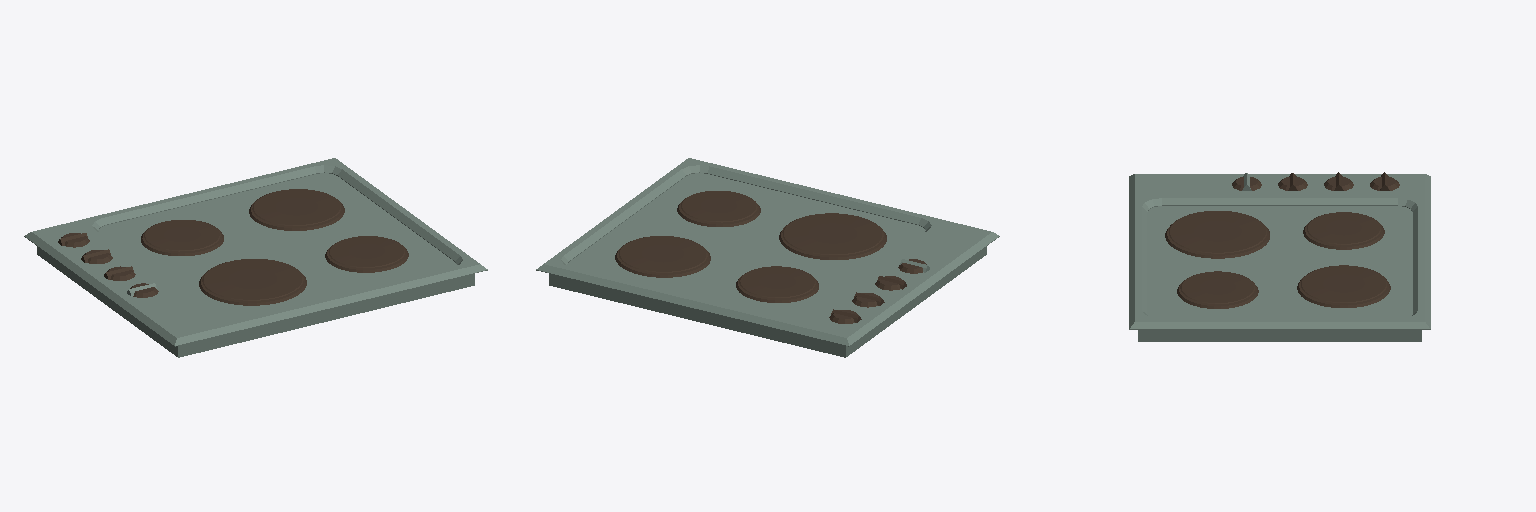
Rendered from GasStove.obj.
The picture shows the model from 3 angles: view 1: azimuth 30°, elevation 25°; view 2: azimuth 150°, elevation 25°; view 3: azimuth 270°, elevation 25°; orthographic projection.
Parts seen in each view (by area): view 1: 1:9:6, 1:1:6; view 2: 1:9:6, 1:1:6; view 3: 1:9:6, 1:1:6.
Part boxes in pixels (x1,y1,x2,y2): 1:9:6: (24, 158, 487, 357); 1:1:6: (141, 189, 408, 305); 1:9:6: (536, 158, 999, 357); 1:1:6: (615, 191, 886, 302); 1:9:6: (1129, 173, 1430, 341); 1:1:6: (1165, 211, 1390, 308).
Size of the model in its own units: 6 by 0.5058 by 5.